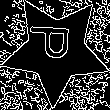P_E: (31, 31, 81, 70)
